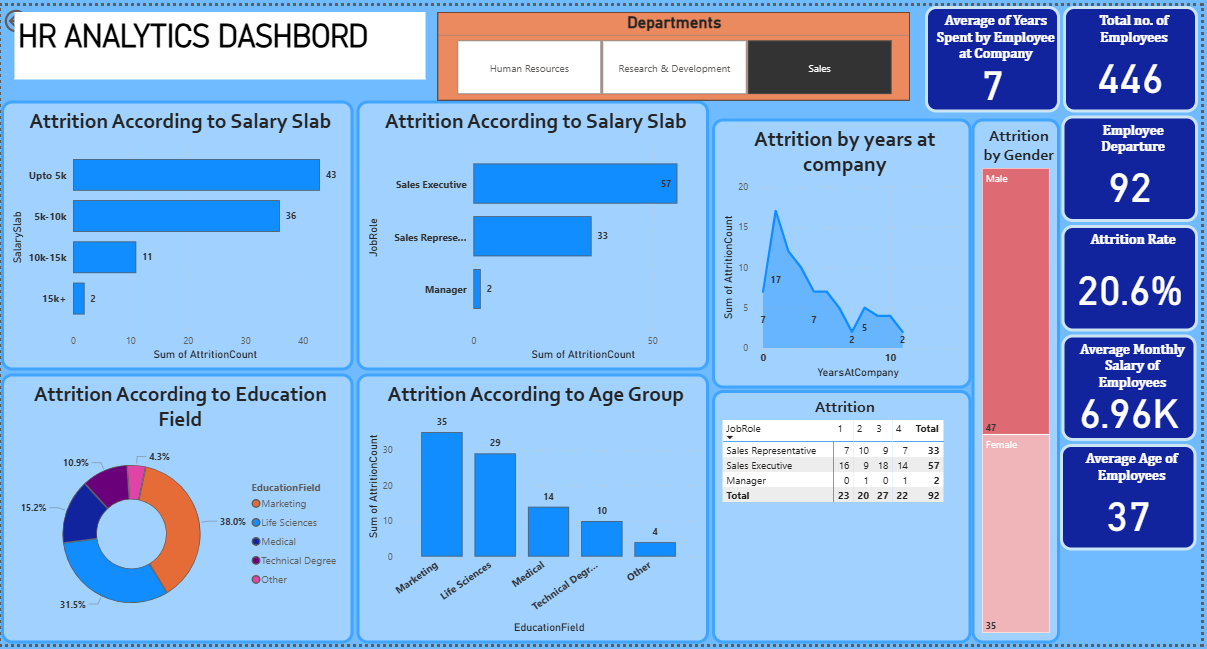

What the dashboard file says about the page in this screenshot:
{"tool":"powerbi","page":{"name":"Page 1","canvas":[1600,850],"ordinal":0},"visuals":[{"type":"card","title":"Total no. of Employees","fields":{"Values":["Count(HR_Analytics.EmpID)"]},"box":[1416,0,180,142],"z":0},{"type":"actionButton","box":[0,0,100,40],"z":1000},{"type":"card","title":"Employee Departure","fields":{"Values":["Sum(HR_Analytics.AttritionCount)","select"]},"box":[1414,146,182,142],"z":2000},{"type":"card","title":"Attrition Rate","fields":{"Values":["HR_Analytics.AttirationRate"]},"box":[1414,292,182,142],"z":3000},{"type":"card","title":"Average of Years Spent by Employee at Company","fields":{"Values":["Avg(HR_Analytics.YearsAtCompany)","select"]},"box":[1232,0,180,142],"z":4000},{"type":"card","title":"Average Monthly Salary of Employees","fields":{"Values":["select","Avg(HR_Analytics.MonthlyIncome)"]},"box":[1414,438,180,142],"z":5000},{"type":"card","title":"Average Age of Employees","fields":{"Values":["Avg(HR_Analytics.Age)","select"]},"box":[1412,584,182,142],"z":6000},{"type":"donutChart","title":"Attrition According to Education Field","fields":{"Category":["HR_Analytics.EducationField"],"Y":["Sum(HR_Analytics.AttritionCount)"]},"box":[0,490,470,360],"z":7000},{"type":"columnChart","title":"Attrition According to Age Group","fields":{"Category":["HR_Analytics.EducationField"],"Y":["Sum(HR_Analytics.AttritionCount)"]},"box":[474,490,470,360],"z":8000},{"type":"pivotTable","title":"Attrition ","fields":{"Rows":["HR_Analytics.JobRole"],"Columns":["HR_Analytics.JobSatisfaction"],"Values":["Sum(HR_Analytics.AttritionCount)"]},"box":[948,512,346,338],"z":9000},{"type":"barChart","title":"Attrition According to Salary Slab","fields":{"Category":["HR_Analytics.SalarySlab"],"Y":["Sum(HR_Analytics.AttritionCount)"]},"box":[0,126,470,360],"z":10000},{"type":"barChart","title":"Attrition According to Salary Slab","fields":{"Y":["Sum(HR_Analytics.AttritionCount)"],"Category":["HR_Analytics.JobRole"]},"box":[474,126,470,360],"z":11000},{"type":"stackedAreaChart","title":"Attrition by years at company","fields":{"Category":["HR_Analytics.YearsAtCompany"],"Y":["Sum(HR_Analytics.AttritionCount)"]},"box":[948,150,346,360],"z":12000},{"type":"treemap","title":"Attrition by Gender","fields":{"Group":["HR_Analytics.Gender"],"Values":["Sum(HR_Analytics.AttritionCount)"]},"box":[1294,150,118,700],"z":13000},{"type":"slicer","title":"Departments","fields":{"Values":["HR_Analytics.Department"]},"box":[582,8,630,118],"z":14000},{"type":"textbox","box":[18,8,548,90],"z":15000}]}

Visuals, with their boxes in screenshot pixels (x1, y1, x2, y2), scaled from the page's 1600x850 canvas onto the 1207x649 screenshot:
"Total no. of Employees" card: bbox=(1068, 0, 1204, 108)
actionButton: bbox=(0, 0, 75, 31)
"Employee Departure" card: bbox=(1067, 111, 1204, 220)
"Attrition Rate" card: bbox=(1067, 223, 1204, 331)
"Average of Years Spent by Employee at Company" card: bbox=(929, 0, 1065, 108)
"Average Monthly Salary of Employees" card: bbox=(1067, 334, 1202, 443)
"Average Age of Employees" card: bbox=(1065, 446, 1202, 554)
"Attrition According to Education Field" donutChart: bbox=(0, 374, 355, 648)
"Attrition According to Age Group" columnChart: bbox=(358, 374, 712, 648)
"Attrition " pivotTable: bbox=(715, 391, 976, 648)
"Attrition According to Salary Slab" barChart: bbox=(0, 96, 355, 371)
"Attrition According to Salary Slab" barChart: bbox=(358, 96, 712, 371)
"Attrition by years at company" stackedAreaChart: bbox=(715, 115, 976, 389)
"Attrition by Gender" treemap: bbox=(976, 115, 1065, 648)
"Departments" slicer: bbox=(439, 6, 914, 96)
textbox: bbox=(14, 6, 427, 75)
